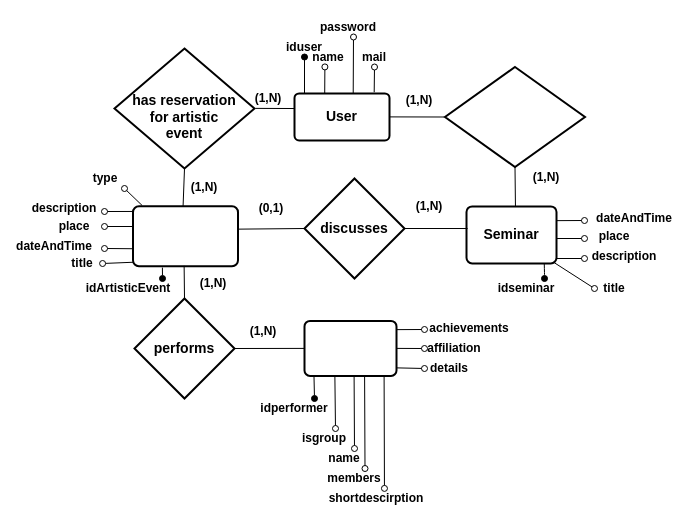
Image size: 690x526. Some labels were removed from this diagram. The box of each missing label's shape, as (x1, y1, x2, y2) in pixels:
Artistic Event: (132, 205, 238, 267)
has reservation for seminar: (444, 66, 586, 168)
Performer: (303, 319, 397, 376)
